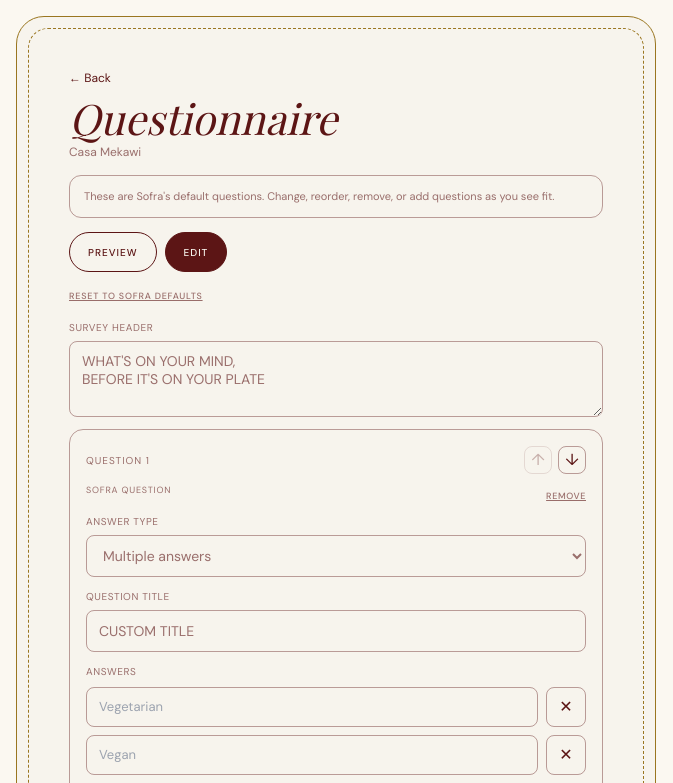
reset to defaults asks for confirmation, then deletes the row and restores defaults
The image size is (673, 783).
Check: the field showing "CUSTOM TITLE" is shown, box [86,610,586,652]
Click the button "RESET TO SOFRA DEFAULTS" at (136, 296), box [69,290,203,302]
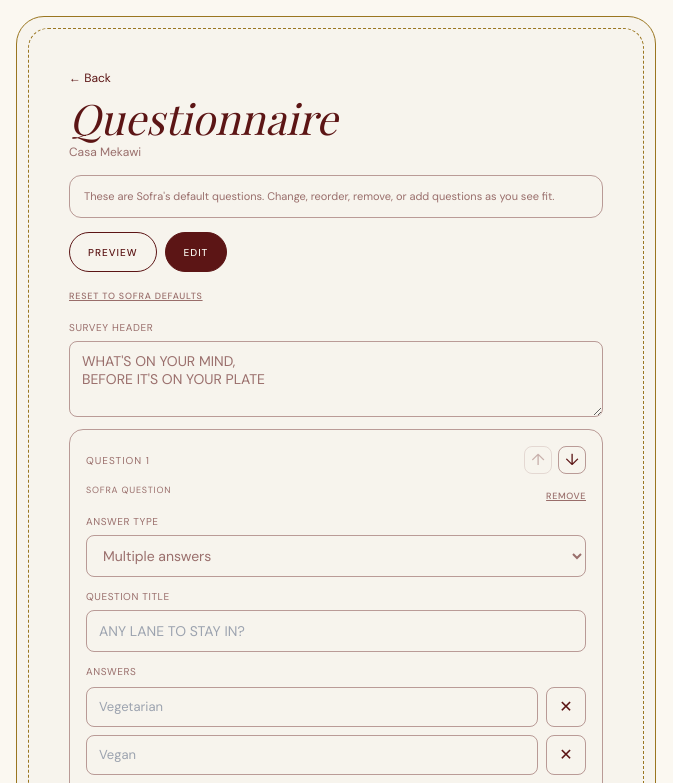
Check: the field showing "CUSTOM TITLE" is not shown
Check: the field with placeholder "ANY LANE TO STAY IN?" is empty, box [86,610,586,652]
